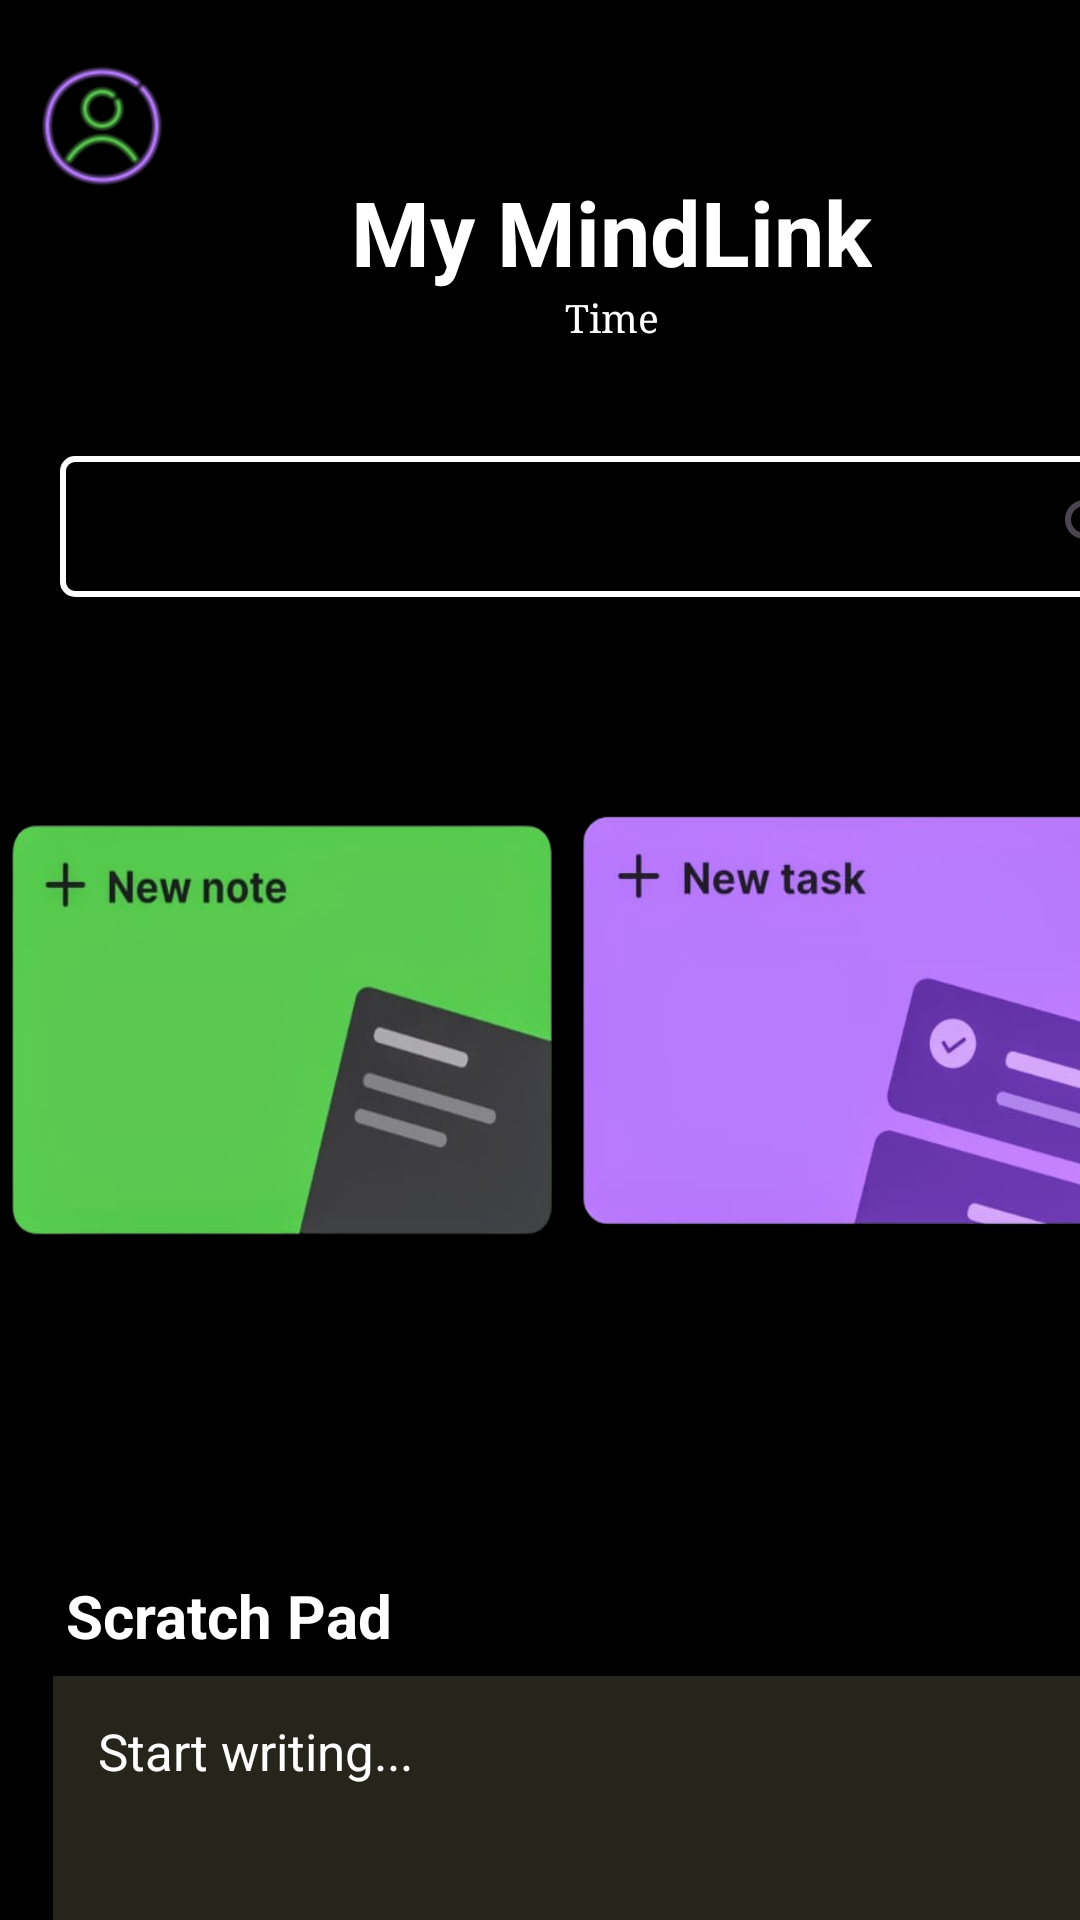

Locate icon controls on the screen. Image size 1080*1920, boxes as (x1, y1, x2, y2).
profile: (42, 67, 162, 185)
